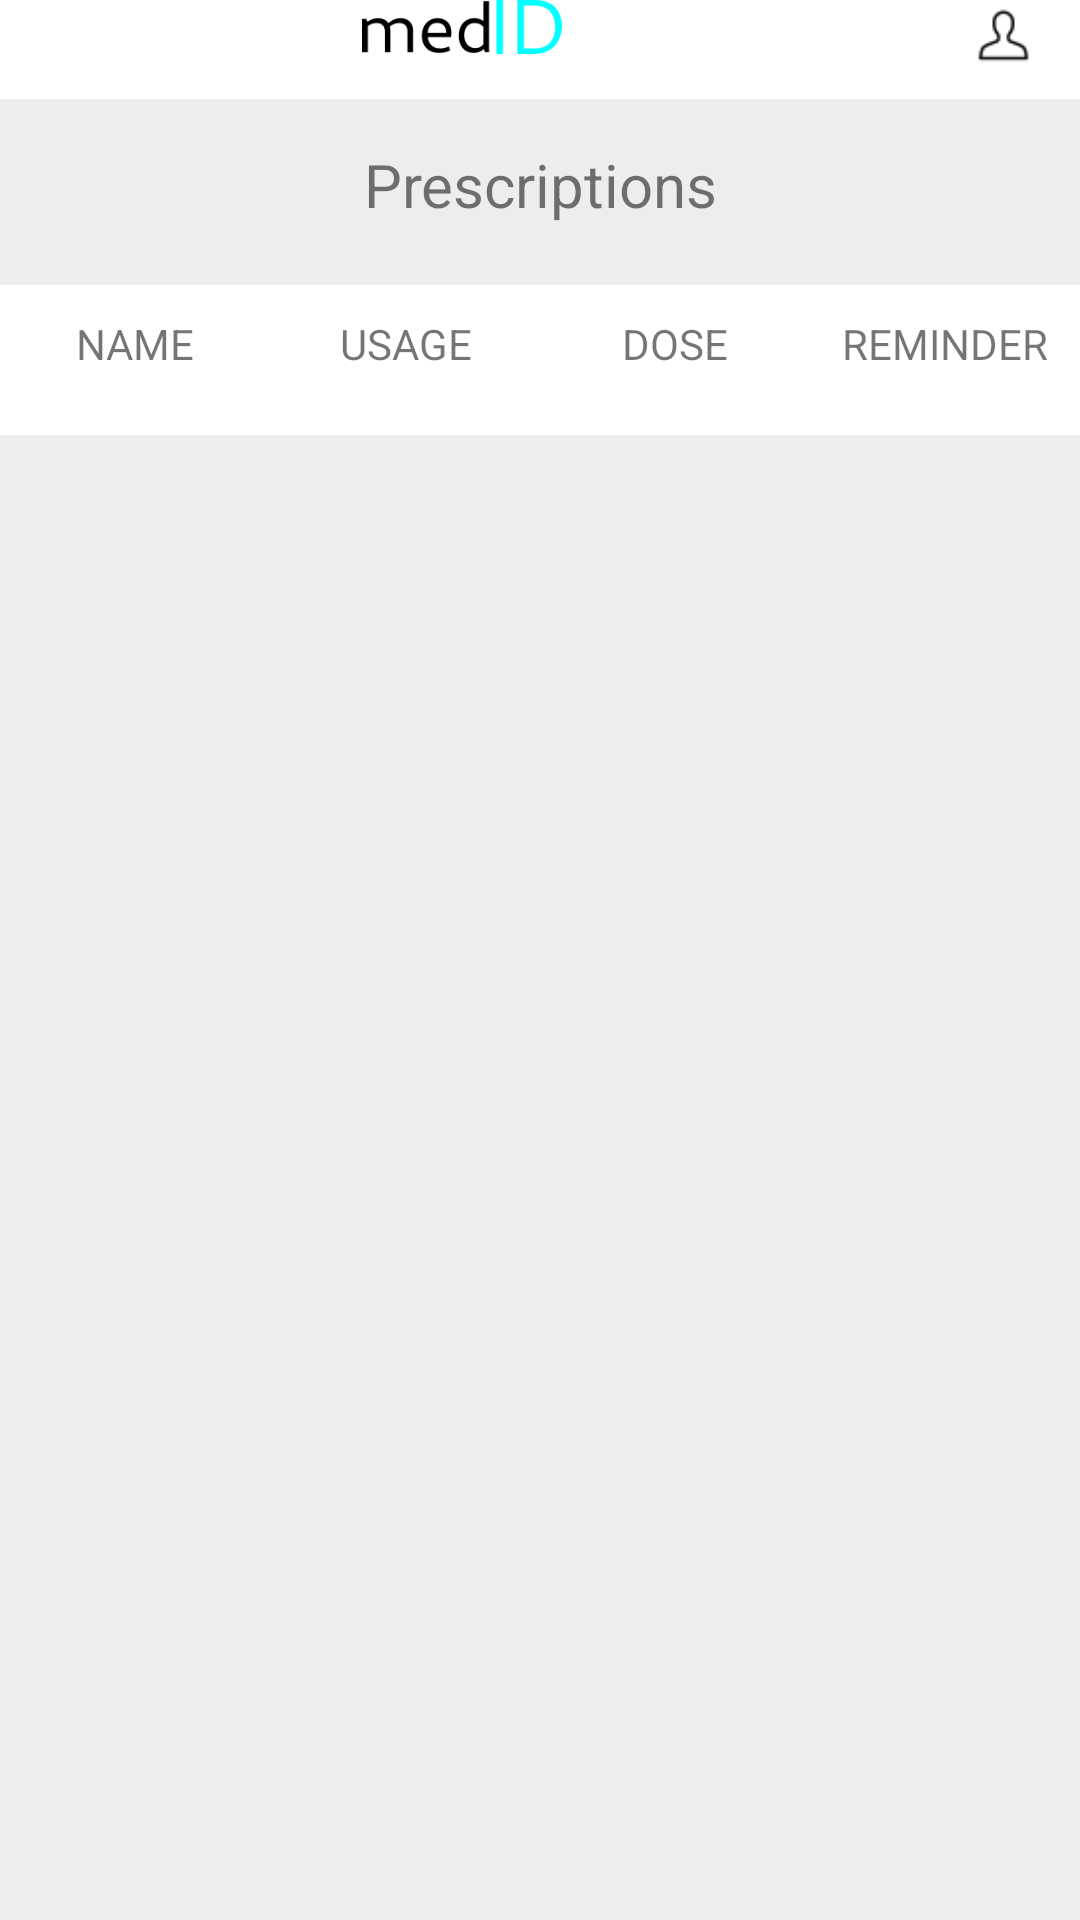

Where icons sit on this 1080 x 1920 app screen, as [x1,y1,x2,y2]:
usr: [978,9,1029,61]
